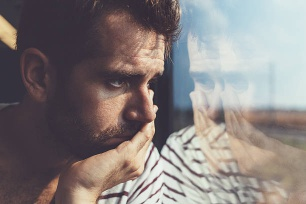male: (70, 26, 164, 160)
